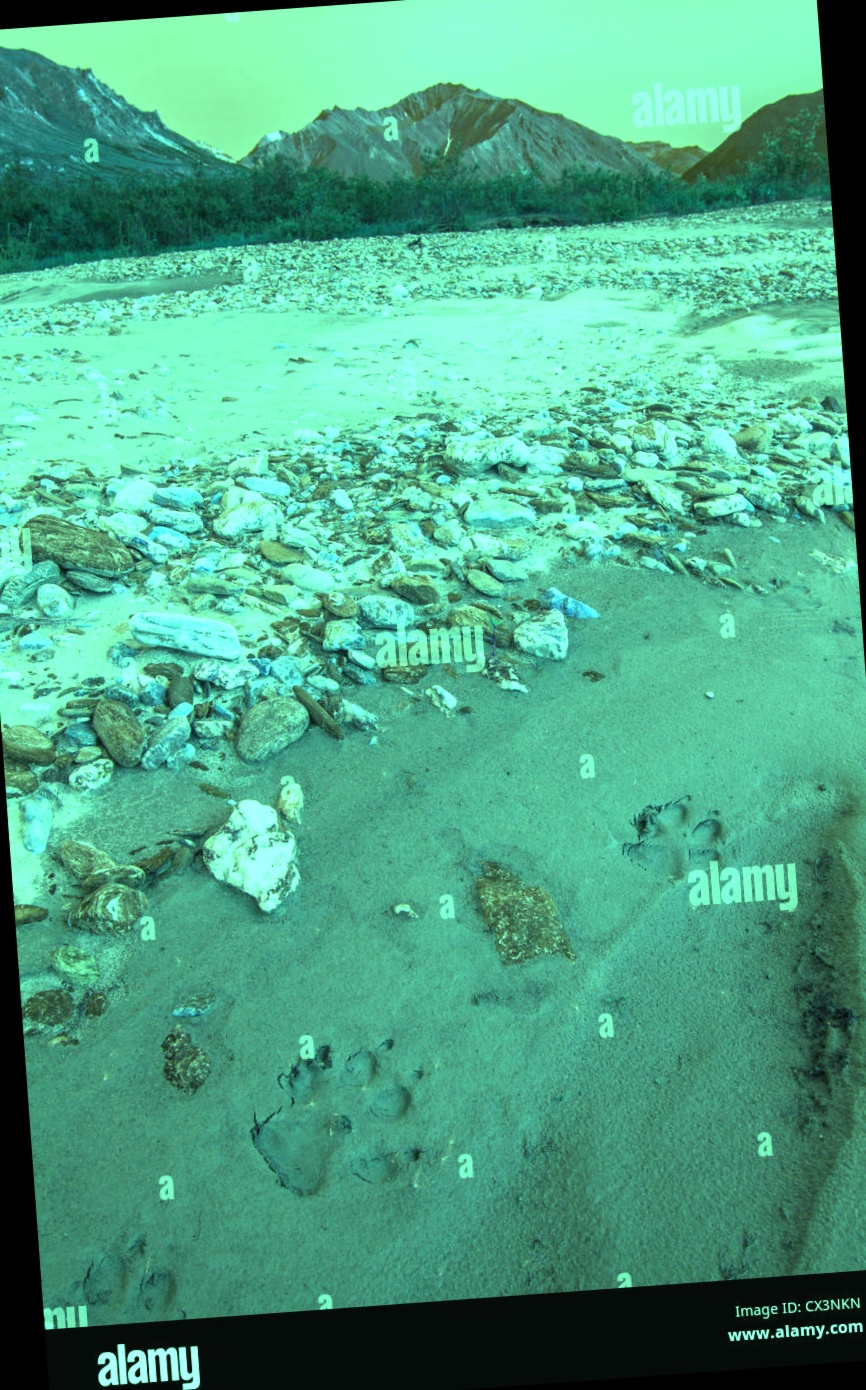loup: (180, 975, 435, 1218), (597, 786, 746, 928), (10, 1171, 158, 1313)
